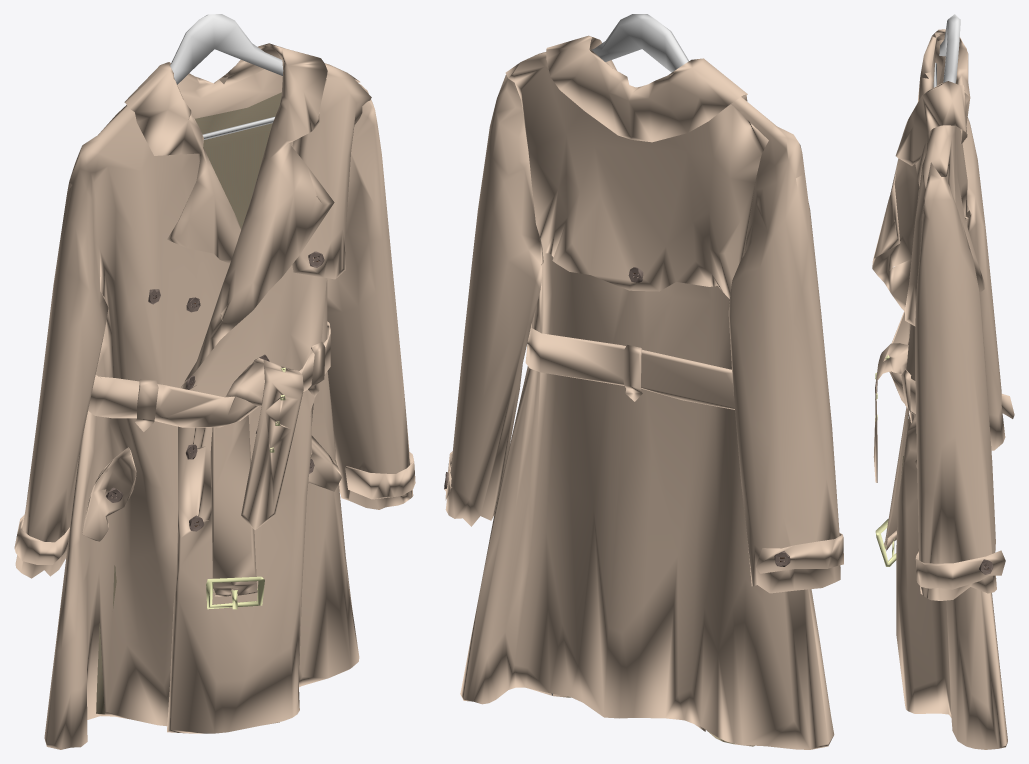
The model's file is hvcoat_plaw.glb.
The picture shows the model from 3 angles, left to right: view 1: azimuth 30°, elevation 25°; view 2: azimuth 150°, elevation 25°; view 3: azimuth 270°, elevation 25°; orthographic projection. The views are drawn at different scales.
Visible parts, largest first — view 1: BP_plaw; view 2: BP_plaw; view 3: BP_plaw.
Part boxes in pixels (x1,y1,x2,y2): BP_plaw: [14, 14, 415, 749]; BP_plaw: [444, 14, 843, 749]; BP_plaw: [872, 14, 1014, 749].
Bounding box in the file's own units: 0.5711 × 0.9882 × 0.1906.
Materials: 7 (2 with a texture image).
